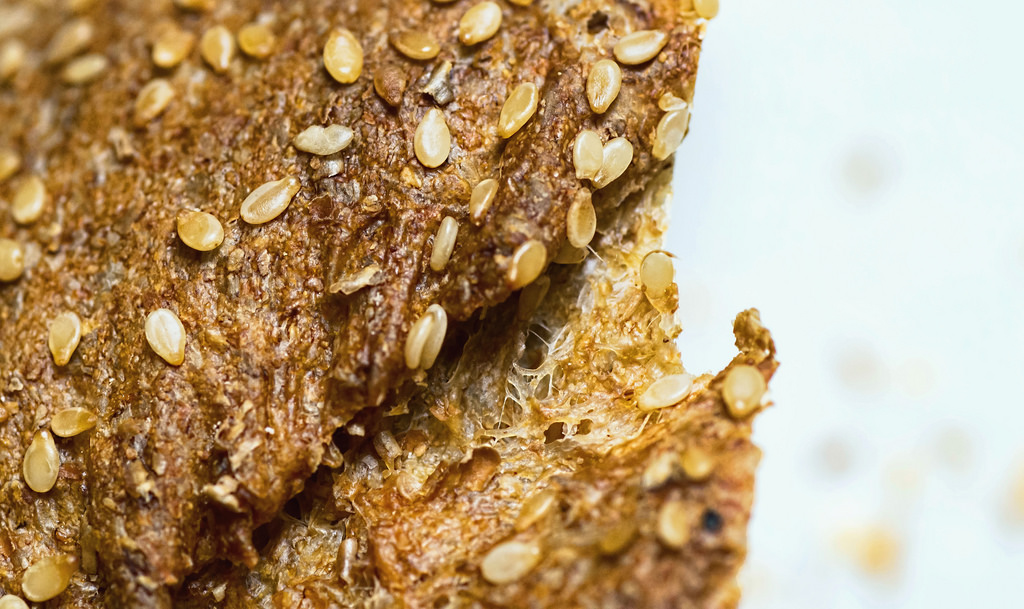slice of bread: (55, 22, 704, 588)
